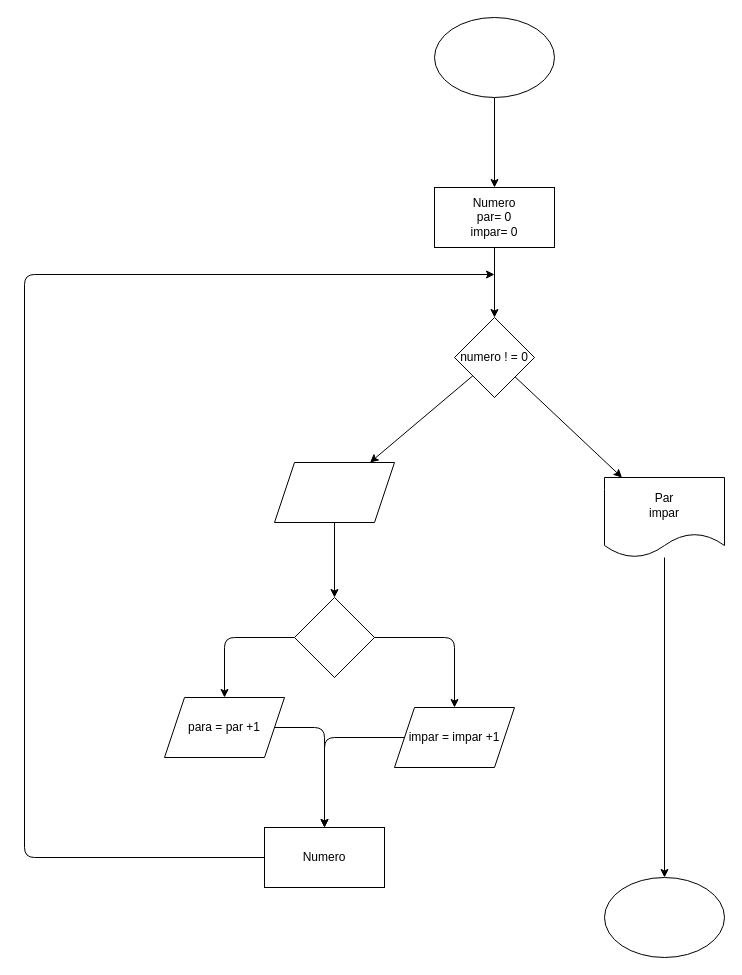
Image size: 742x975. Some labels were removed from this diagram. The box of each missing label's shape, as (x1, y1, x2, y2) in pixels:
Inicio: (434, 16, 554, 98)
numero= 0: (294, 596, 374, 678)
numero=%2: (274, 462, 394, 522)
